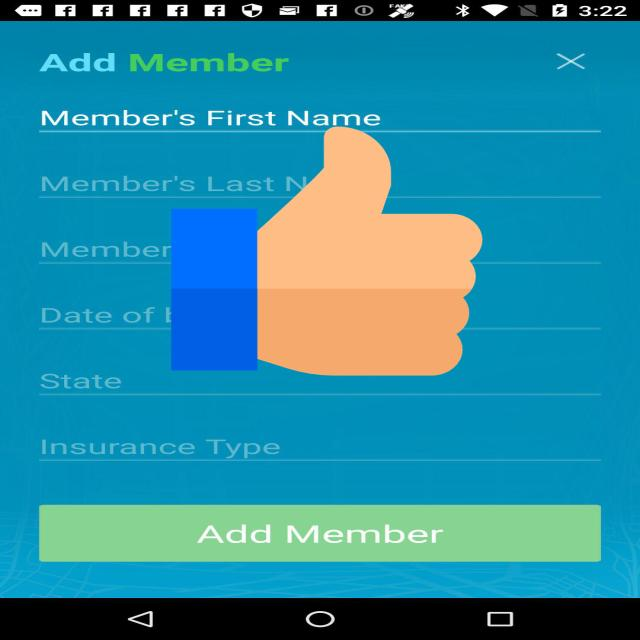privacy zuckering: (172, 120, 482, 382)
